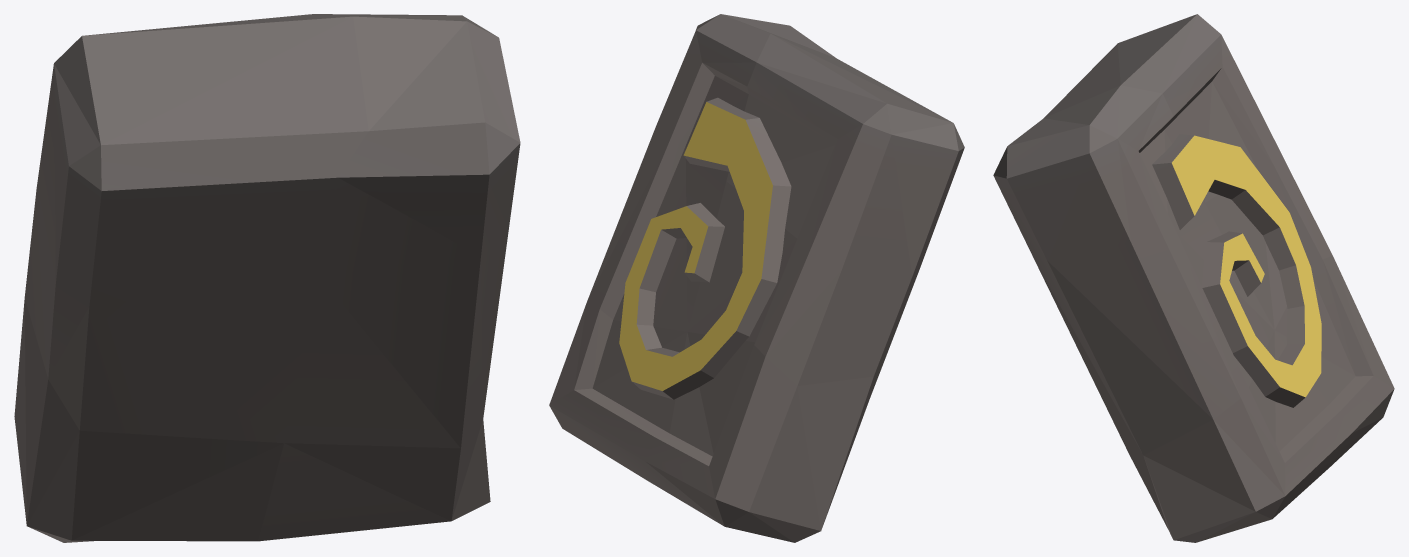
Rendered from trinketRune1.fbx.
The picture shows the model from 3 angles, left to right: view 1: azimuth 30°, elevation 25°; view 2: azimuth 150°, elevation 25°; view 3: azimuth 270°, elevation 25°; orthographic projection. The views are drawn at different scales.
Visible parts, largest first — view 1: trinketRune1; view 2: trinketRune1; view 3: trinketRune1.
Part boxes in pixels (left/top/right/bottom): trinketRune1: left=14, top=14, right=520, bottom=542; trinketRune1: left=549, top=14, right=964, bottom=542; trinketRune1: left=993, top=14, right=1394, bottom=542.
Bounding box in the file's own units: 1.18 × 1.35 × 1.19.
1 material, 1 textured.
